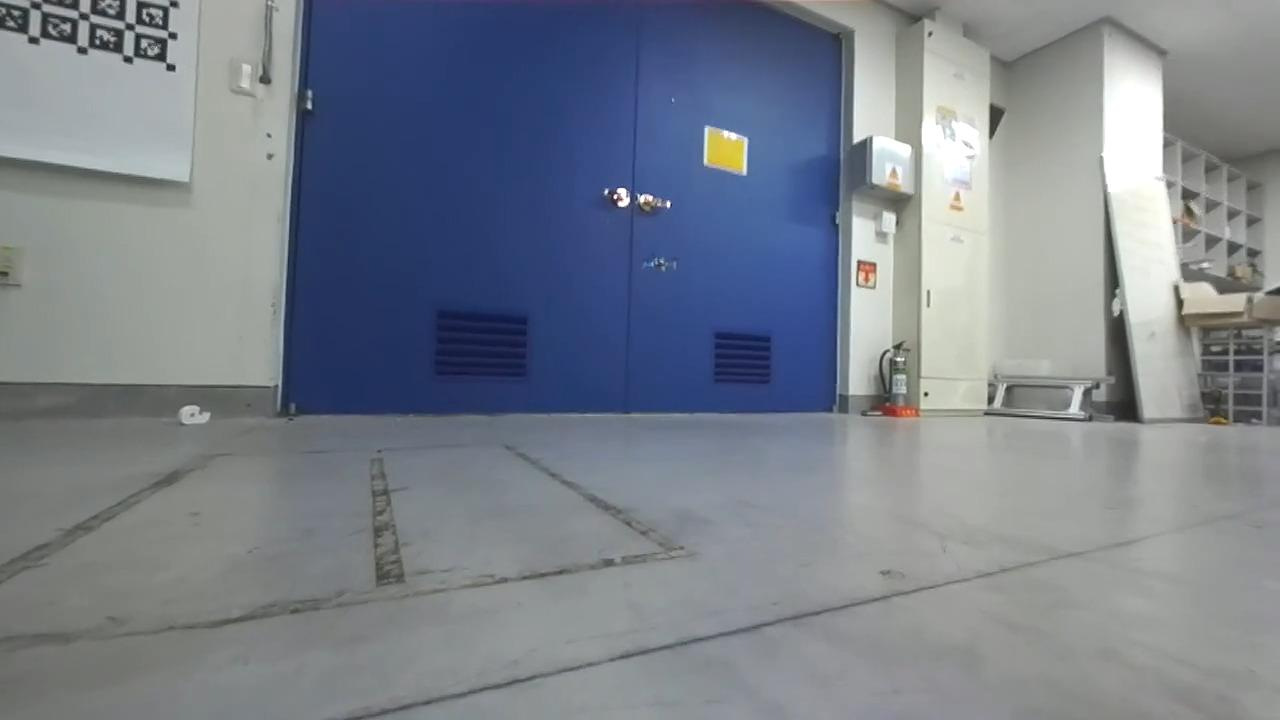crazyflie: (634, 254, 683, 275)
